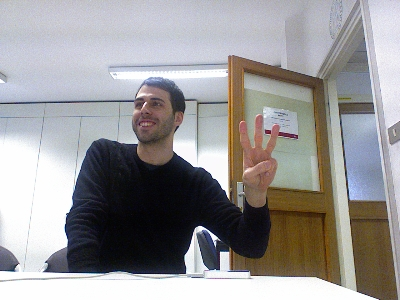三分: (235, 112, 281, 189)
